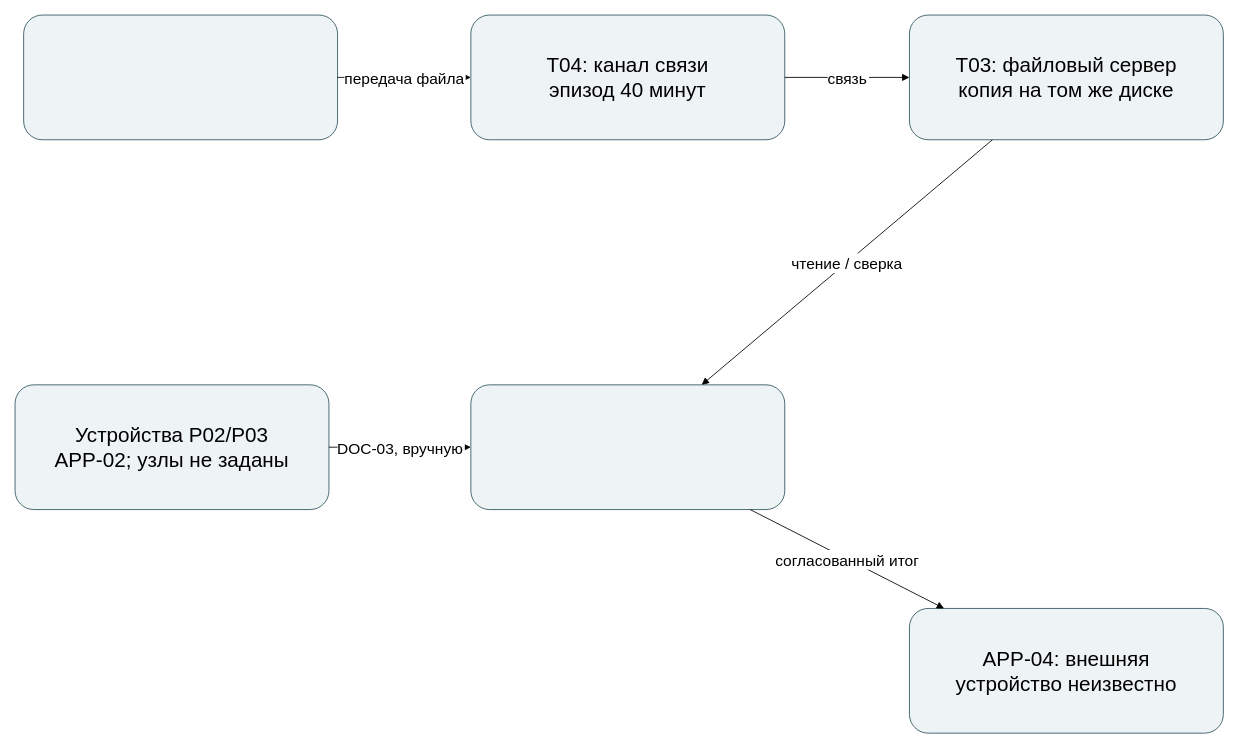
Some shapes in this 1238 by 748 pixel diagram are drawn without their labels. The shapes that lost their labels are listed below. From the top down, each one's centre as x and y in pixels, then its label:
the point at 180,77: T01: ноутбук склада APP-01
the point at 627,447: T02: место бухгалтера APP-03
